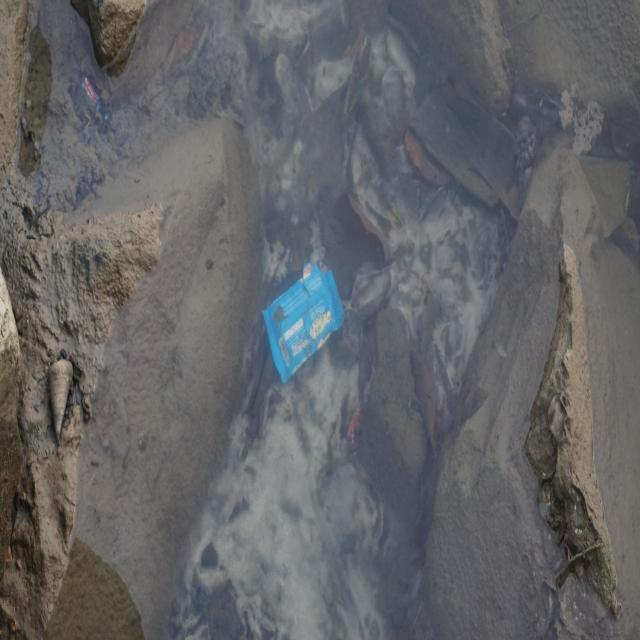Bungkus Makanan: (261, 258, 347, 387)
